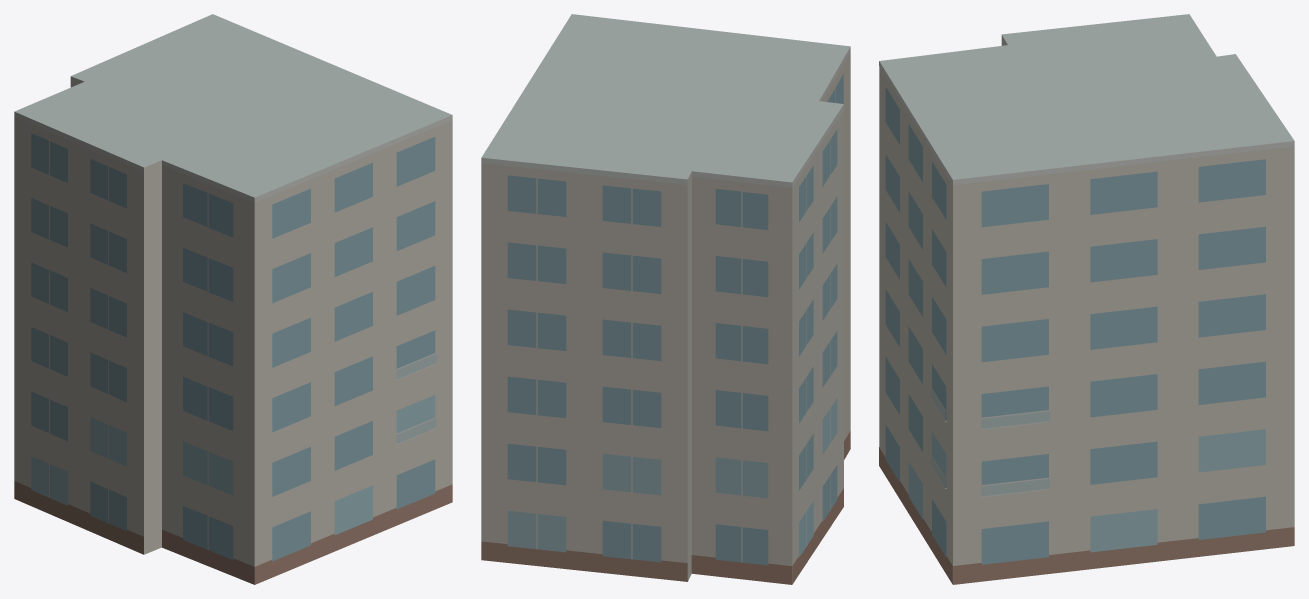
The model's file is survey-upis-32863707.glb.
3 renders of one model, left to right at view 1: azimuth 30°, elevation 25°; view 2: azimuth 150°, elevation 25°; view 3: azimuth 270°, elevation 25°, orthographic. The views are drawn at different scales.
Parts seen in each view (by area): view 1: survey-upis-32863707.tmp; view 2: survey-upis-32863707.tmp; view 3: survey-upis-32863707.tmp.
Part boxes in pixels (bbox=[...]): survey-upis-32863707.tmp: bbox=[14, 14, 452, 584]; survey-upis-32863707.tmp: bbox=[481, 14, 850, 584]; survey-upis-32863707.tmp: bbox=[879, 14, 1294, 584].
Size of the model in its own units: 16.16 by 18.38 by 17.1.
